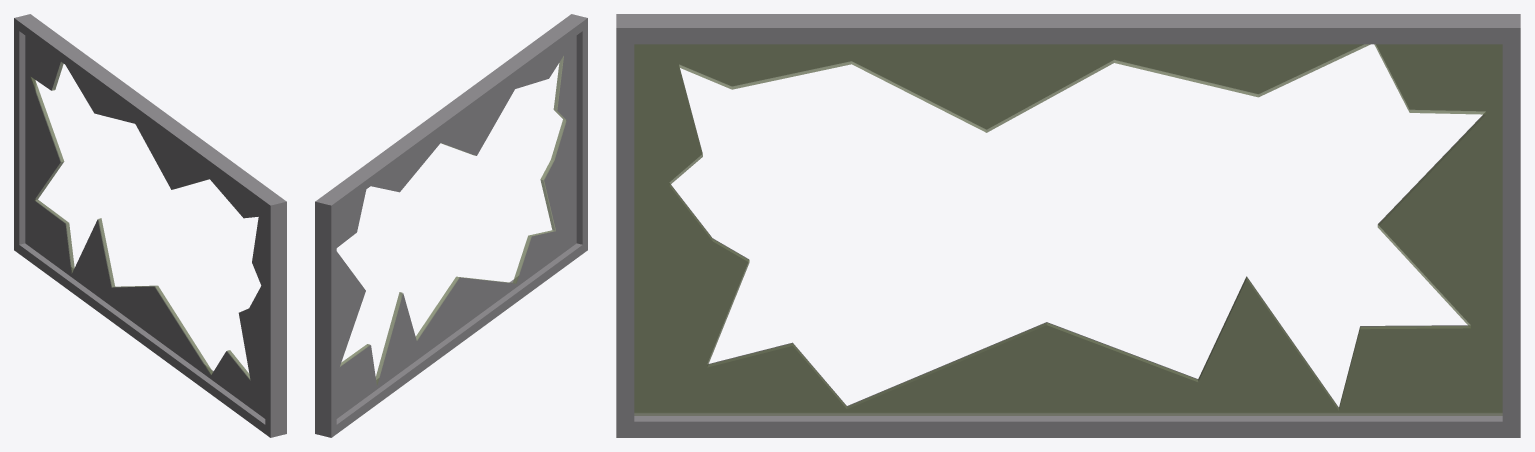
The model's file is FutureOneWay.fbx.
3 renders of one model, left to right at view 1: azimuth 30°, elevation 25°; view 2: azimuth 150°, elevation 25°; view 3: azimuth 270°, elevation 25°, orthographic. The views are drawn at different scales.
Parts seen in each view (by area): view 1: Cube; view 2: Cube; view 3: Cube.
Boxes of the visible parts, x1=… form: Cube: x1=14, y1=14, x2=286, y2=437; Cube: x1=315, y1=14, x2=587, y2=437; Cube: x1=616, y1=14, x2=1520, y2=437.
Size of the model in its own units: 14.73 by 200 by 400.
